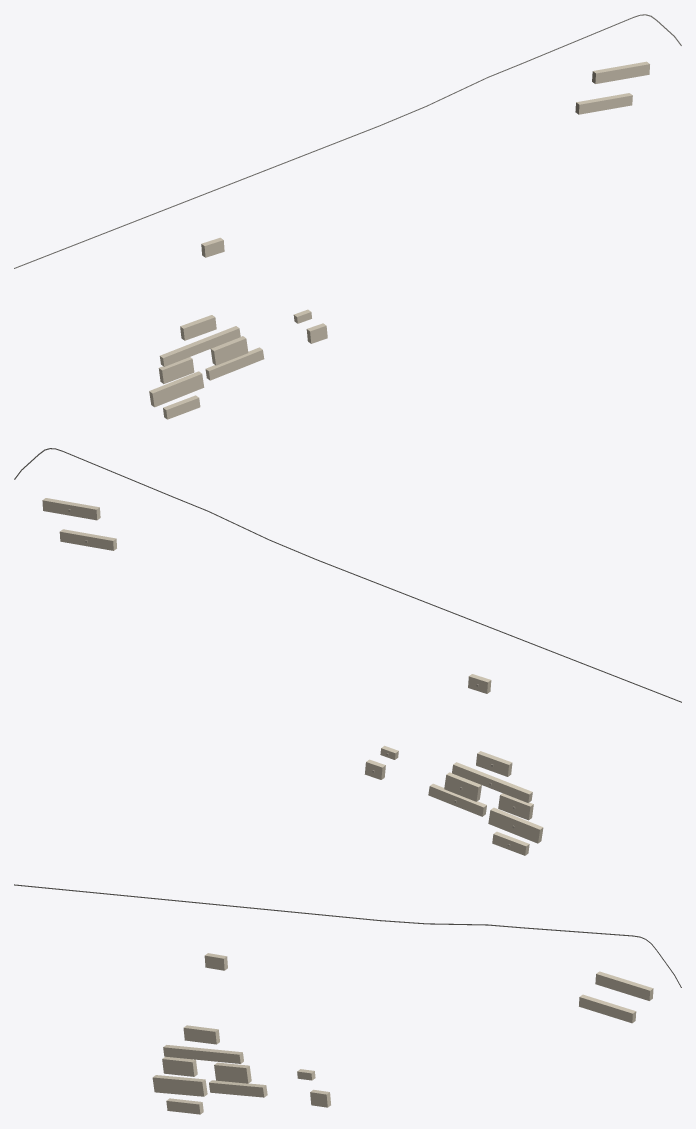
Rendered from historic-palestine-13_23_3547_3175.glb.
The picture shows the model from 3 angles, top to bottom: view 1: azimuth 30°, elevation 25°; view 2: azimuth 150°, elevation 25°; view 3: azimuth 330°, elevation 25°; orthographic projection.
Visible parts, largest first — view 1: Road, Building_.003, Building_.008, Building_.001, Building_.007, Building_, Building_.004; view 2: Road, Building_.003, Building_.008, Building_.001, Building_.007, Building_, Building_.004; view 3: Road, Building_.003, Building_.008, Building_.001, Building_, Building_.007, Building_.004, Building_.005, Building_.002, Building_.006.
Part boxes in pixels (box(x1,y1,x2,y2)): Road: box(14, 14, 681, 268); Building_.003: box(159, 326, 240, 366); Building_.008: box(149, 371, 204, 407); Building_.001: box(592, 61, 649, 83); Building_.007: box(205, 347, 264, 380); Building_: box(575, 93, 632, 114); Building_.004: box(210, 336, 248, 365); Road: box(14, 448, 681, 702); Building_.003: box(452, 762, 532, 802); Building_.008: box(488, 807, 543, 843); Building_.001: box(42, 498, 100, 520); Building_.007: box(428, 783, 486, 816); Building_: box(59, 529, 116, 550); Building_.004: box(444, 772, 481, 801); Road: box(14, 884, 681, 987); Building_.003: box(163, 1045, 243, 1063); Building_.008: box(152, 1075, 207, 1096); Building_.001: box(595, 971, 653, 1000); Building_: box(579, 994, 636, 1023); Building_.007: box(209, 1080, 267, 1097); Building_.004: box(214, 1062, 251, 1083); Building_.005: box(162, 1056, 197, 1076); Building_.002: box(183, 1025, 219, 1044); Building_.006: box(166, 1098, 203, 1114).
Bounding box in the file's own units: 853 × 353 × 8.7.
